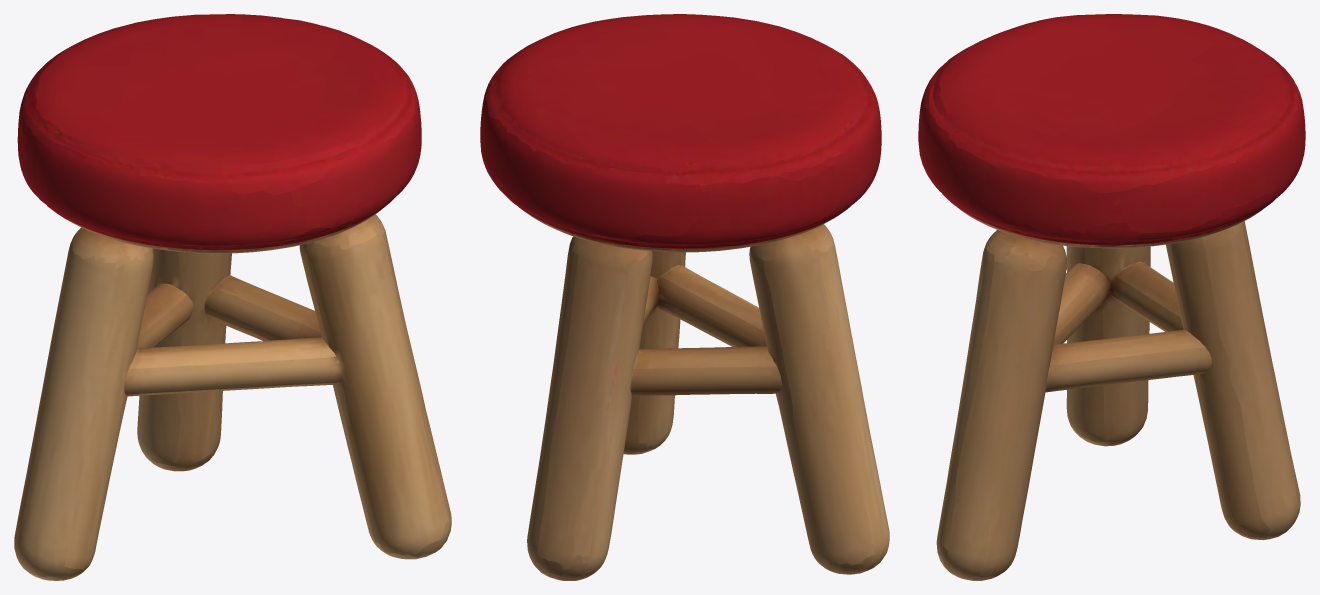
File: x-stool.glb
3 renders of one model, left to right at view 1: azimuth 30°, elevation 25°; view 2: azimuth 150°, elevation 25°; view 3: azimuth 270°, elevation 25°, orthographic. The views are drawn at different scales.
Parts seen in each view (by area): view 1: geometry_0; view 2: geometry_0; view 3: geometry_0.
Boxes of the visible parts, x1,y1,x2,y2 form: geometry_0: (14,14,451,580); geometry_0: (480,14,889,580); geometry_0: (918,14,1305,580).
Bounding box in the file's own units: 0.3961 × 0.45 × 0.3621.
Materials: 1 (1 with a texture image).
